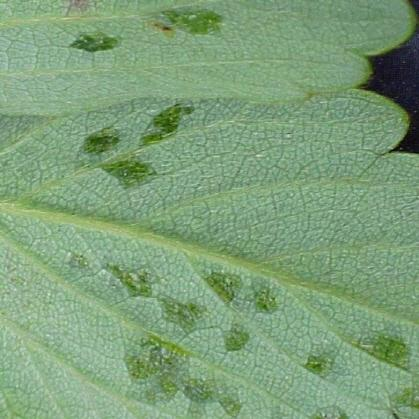Angular Leafspot: (50, 0, 418, 418)
